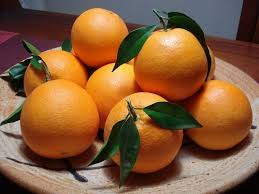orange: (17, 81, 100, 162), (104, 92, 184, 176), (137, 24, 210, 98), (183, 79, 254, 152), (81, 60, 145, 131), (68, 7, 132, 70), (22, 45, 87, 106)
